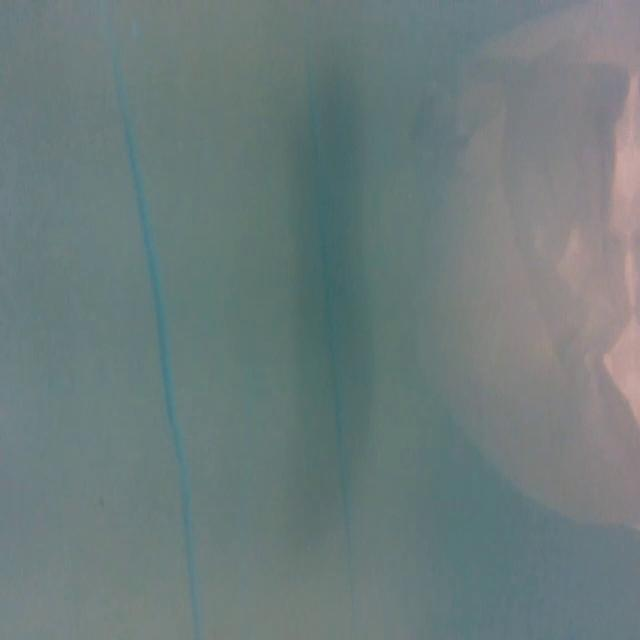plastic bags: (432, 3, 640, 530)
